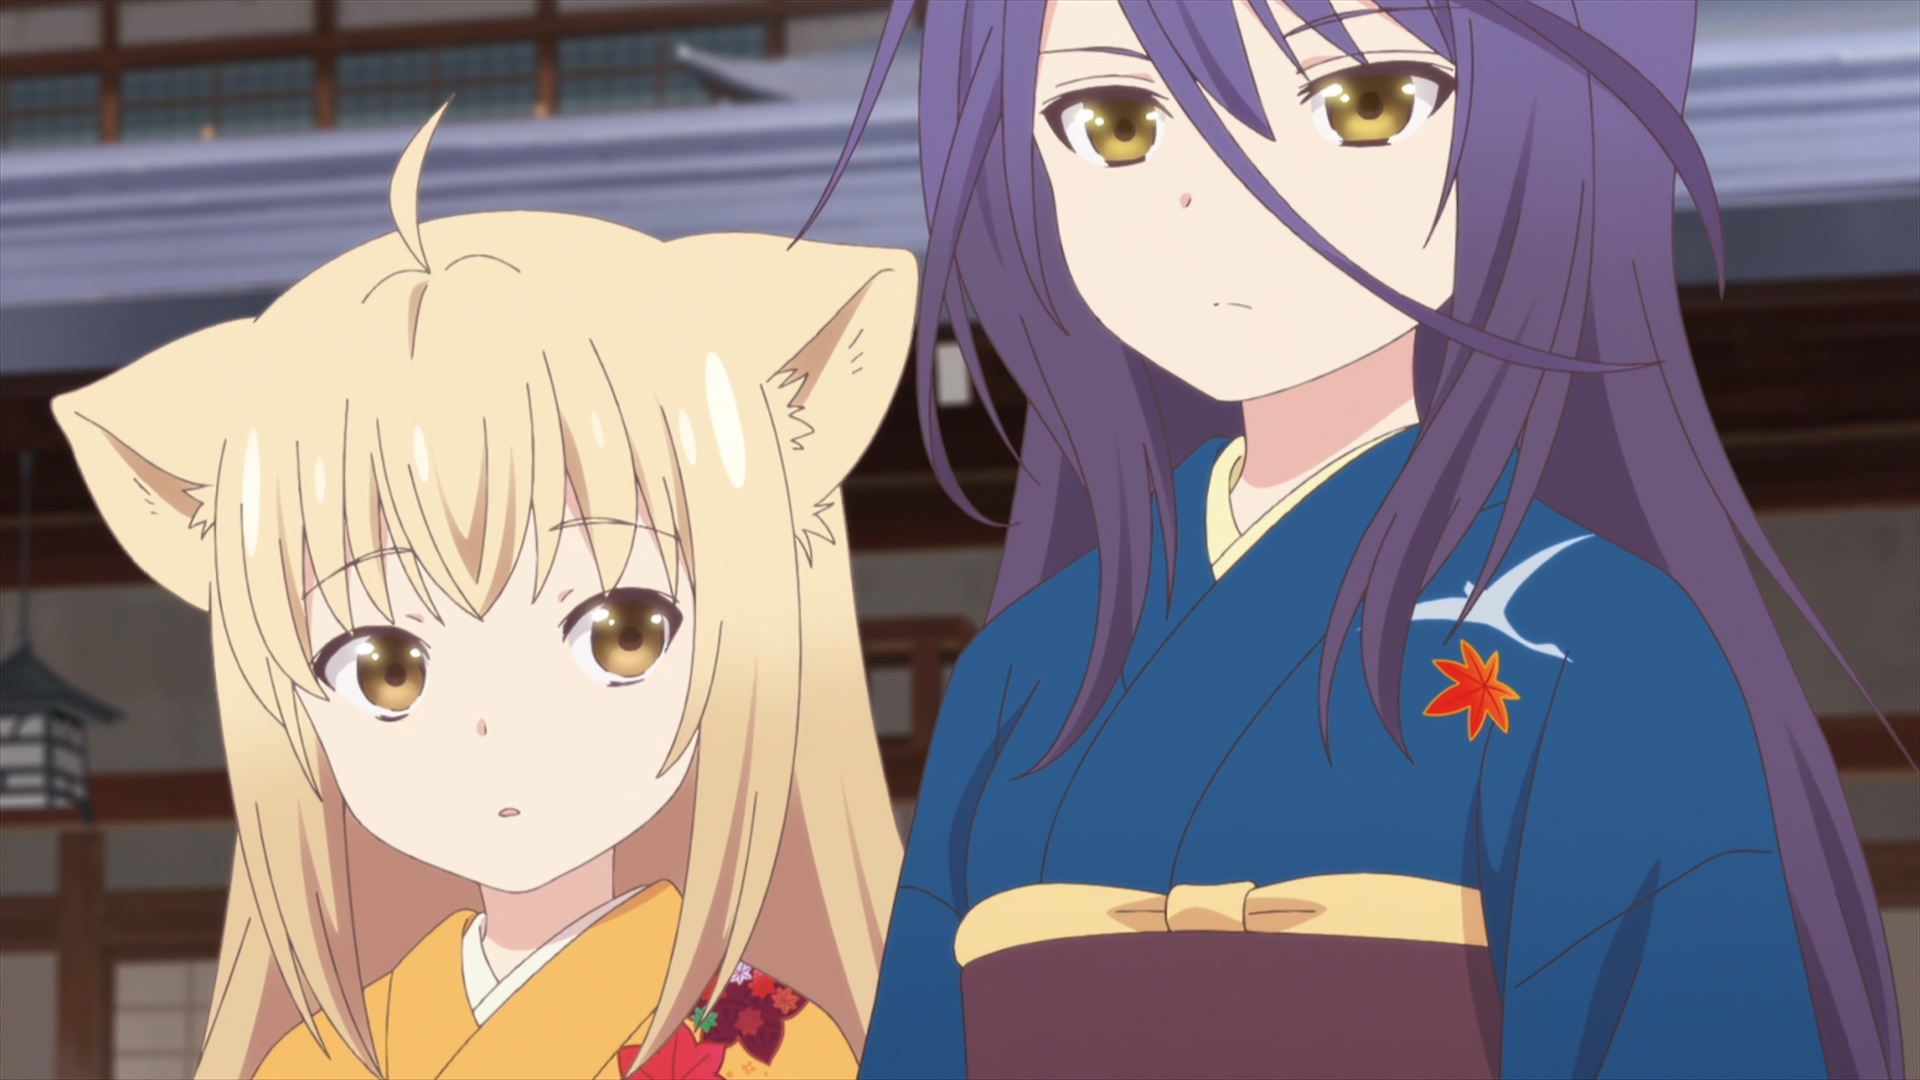柚: (51, 94, 918, 1080)
皋: (787, 1, 1920, 1080)
